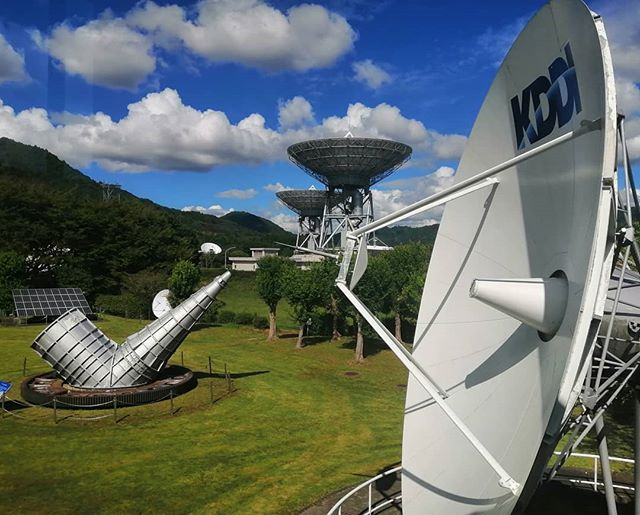building: (38, 276, 233, 418), (299, 127, 420, 256), (273, 184, 330, 252)
mountain: (1, 96, 205, 212)
sky: (52, 1, 501, 196)
vegetation: (1, 195, 204, 307), (263, 255, 422, 354)
